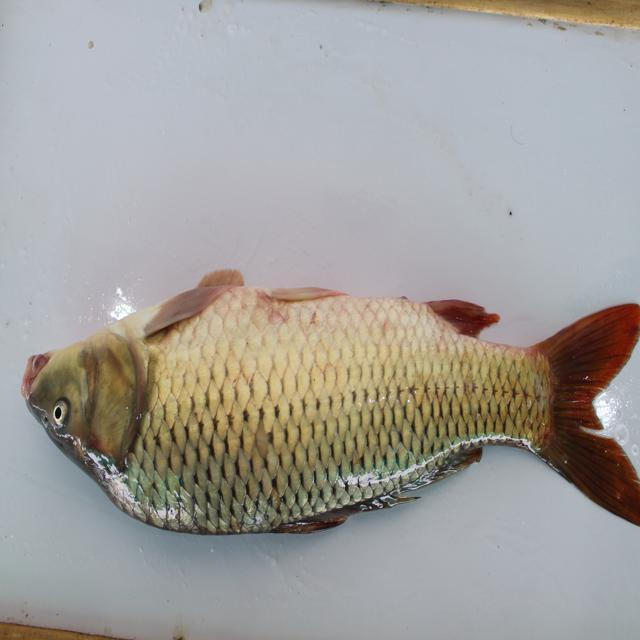CommonCarp: (25, 262, 640, 540)
